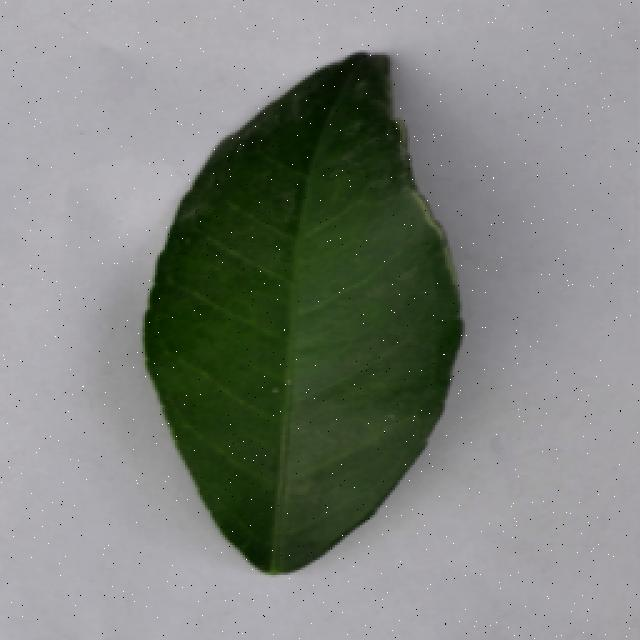healthy: (130, 43, 489, 595)
